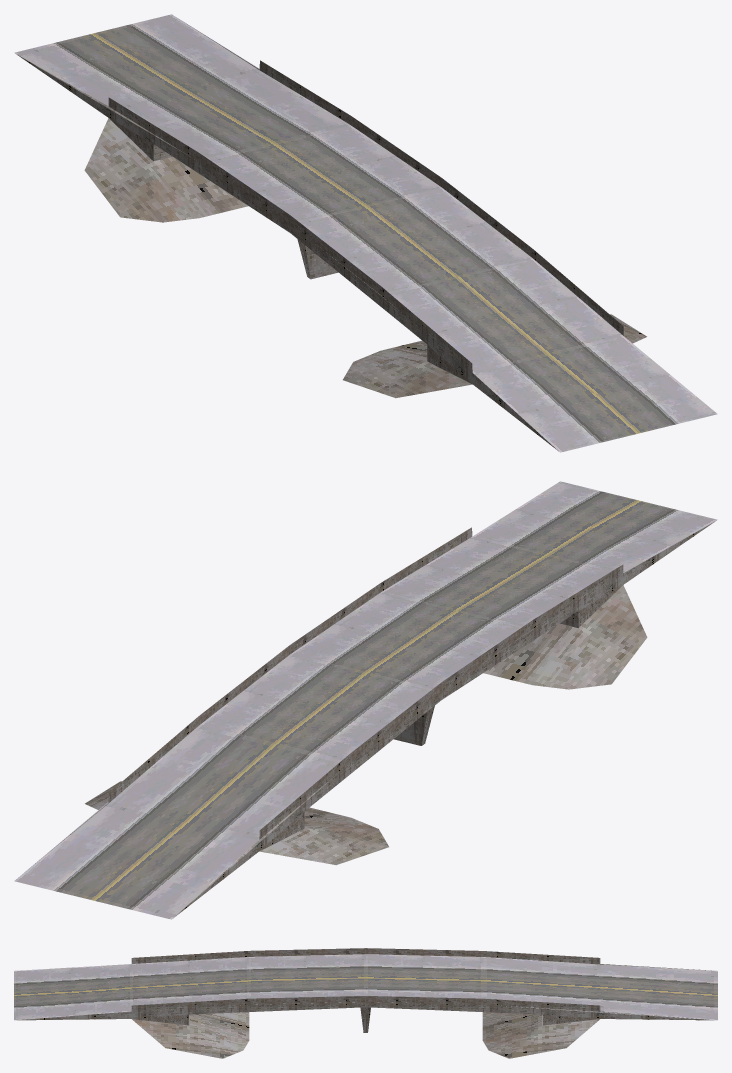
Rendered from lodasnroad798.obj.
3 views of the same model, one above another, from view 1: azimuth 30°, elevation 25°; view 2: azimuth 150°, elevation 25°; view 3: azimuth 270°, elevation 25° (orthographic). The views are drawn at different scales.
Parts seen in each view (by area): view 1: lodasNroad798; view 2: lodasNroad798; view 3: lodasNroad798.
Boxes of the visible parts, left/top/right/bottom form: lodasNroad798: left=14, top=14, right=717, bottom=452; lodasNroad798: left=14, top=481, right=717, bottom=919; lodasNroad798: left=14, top=948, right=717, bottom=1058.
Size of the model in its own units: 34.13 by 8.39 by 120.
2 materials, 2 textured.
